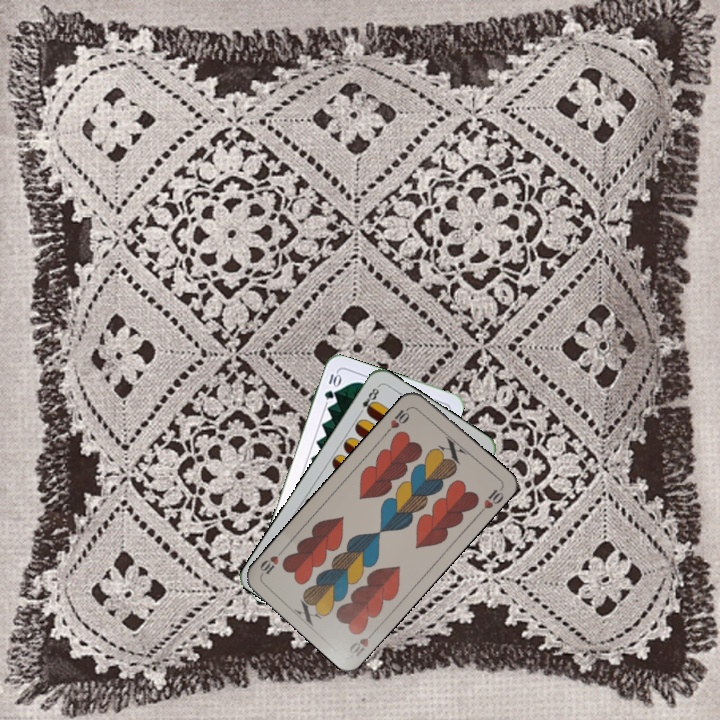E8: (354, 382, 382, 418)
G10: (320, 369, 343, 402)
H10: (345, 625, 380, 660), (382, 403, 413, 436)
